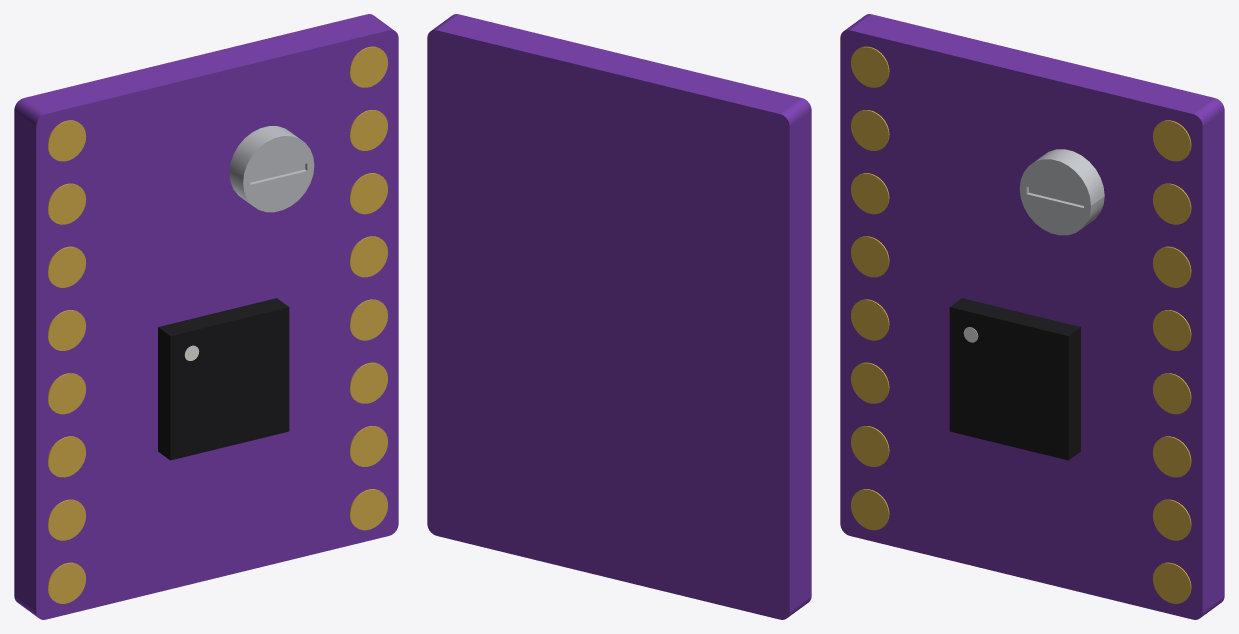
The model's file is pololu-2133-drv8825.glb.
3 views of the same model, side by side, from view 1: azimuth 30°, elevation 25°; view 2: azimuth 150°, elevation 25°; view 3: azimuth 330°, elevation 25° (orthographic).
Visible parts, largest first — view 1: board, chip_3, trimmer_4, pads_2_5, pads_1_8, pads_2_3, pads_2_8, pads_1_3, pads_2_4, pads_1_2, pads_1_4, pads_1_7 (+7 smaller); view 2: board; view 3: board, chip_3, trimmer_4, pads_1_5, pads_1_3, pads_2_8, pads_1_8, pads_2_3, pads_1_4, pads_2_2, pads_2_4, pads_2_7 (+7 smaller).
Part boxes in pixels (x1,y1,x2,y2): board: (14,14,398,619); chip_3: (158,298,289,460); trimmer_4: (229,126,314,212); pads_2_5: (349,236,387,277); pads_1_8: (47,120,86,161); pads_2_3: (349,362,387,403); pads_2_8: (349,46,387,87); pads_1_3: (47,436,86,477); pads_2_4: (349,299,387,340); pads_1_2: (47,499,86,540); pads_1_4: (47,373,86,414); pads_1_7: (47,183,86,224); board: (427,14,811,619); board: (840,14,1224,619); chip_3: (949,298,1080,460); trimmer_4: (1019,149,1104,235); pads_1_5: (851,236,889,277); pads_1_3: (851,362,889,403); pads_2_8: (1152,120,1191,161); pads_1_8: (851,46,889,87); pads_2_3: (1152,436,1191,477); pads_1_4: (851,299,889,340); pads_2_2: (1152,499,1191,540); pads_2_4: (1152,373,1191,414); pads_2_7: (1152,183,1191,224).
Bounding box in the file's own units: 15.24 × 20.32 × 2.6.
